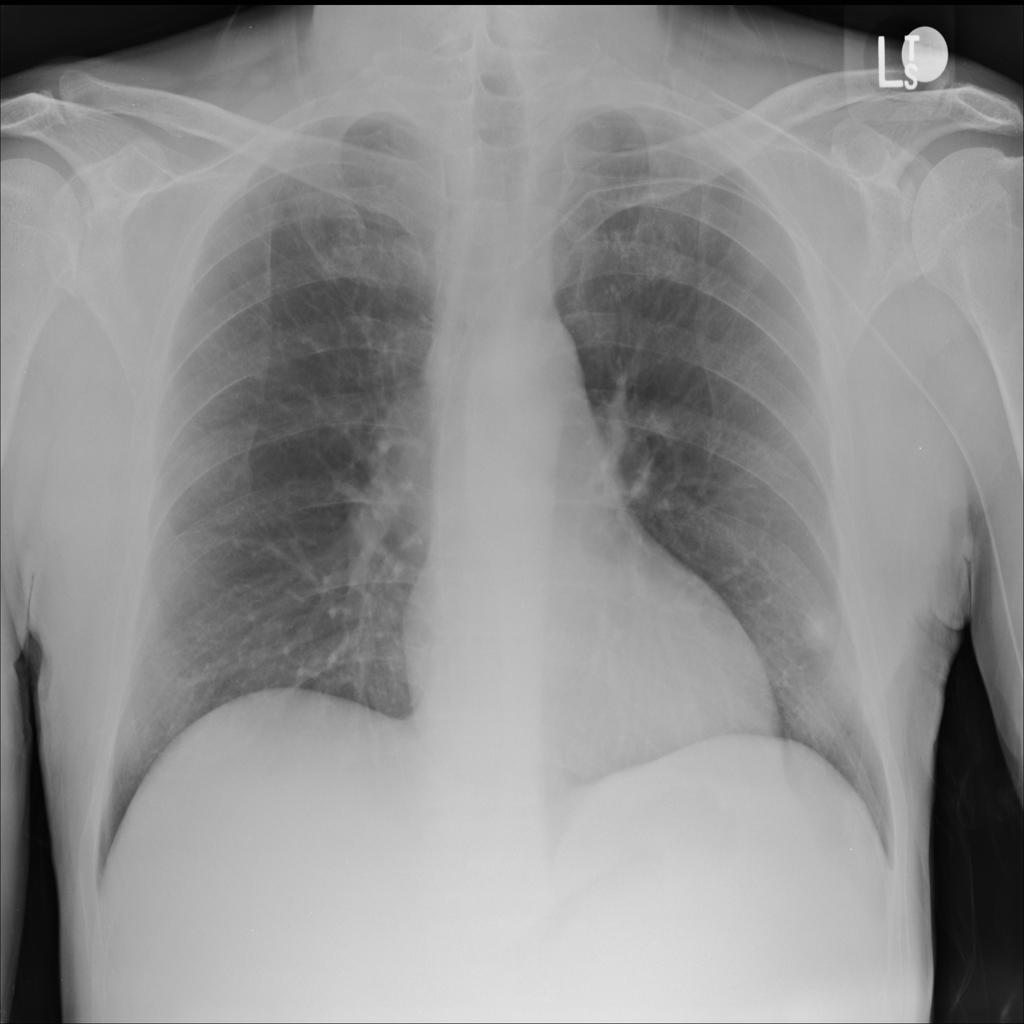nodule: (783, 586, 850, 661)
